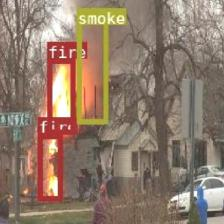fire: (47, 58, 74, 132), (38, 133, 61, 200)
smoke: (76, 7, 106, 123)
